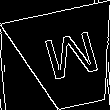M_S: (36, 28, 101, 89)
